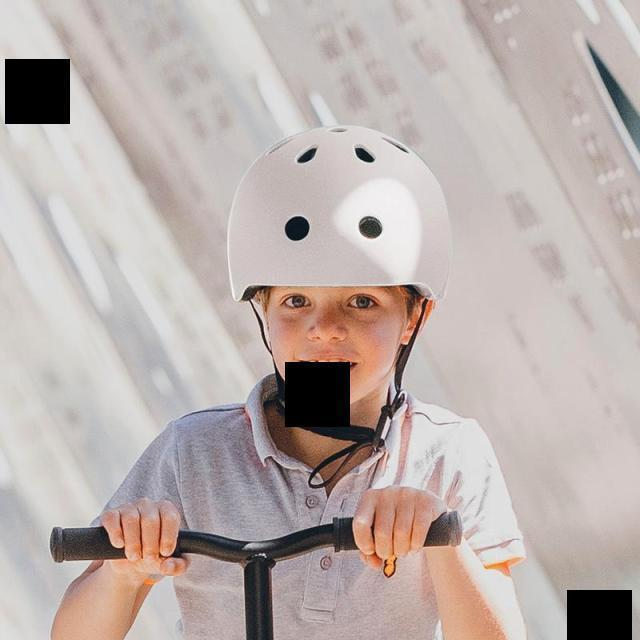helmet: (230, 120, 454, 454)
